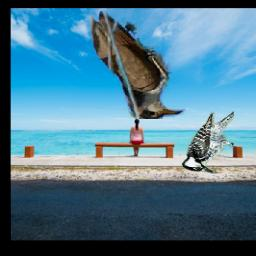Cuckoo: (91, 12, 206, 120)
Woodpecker: (182, 112, 235, 174)
